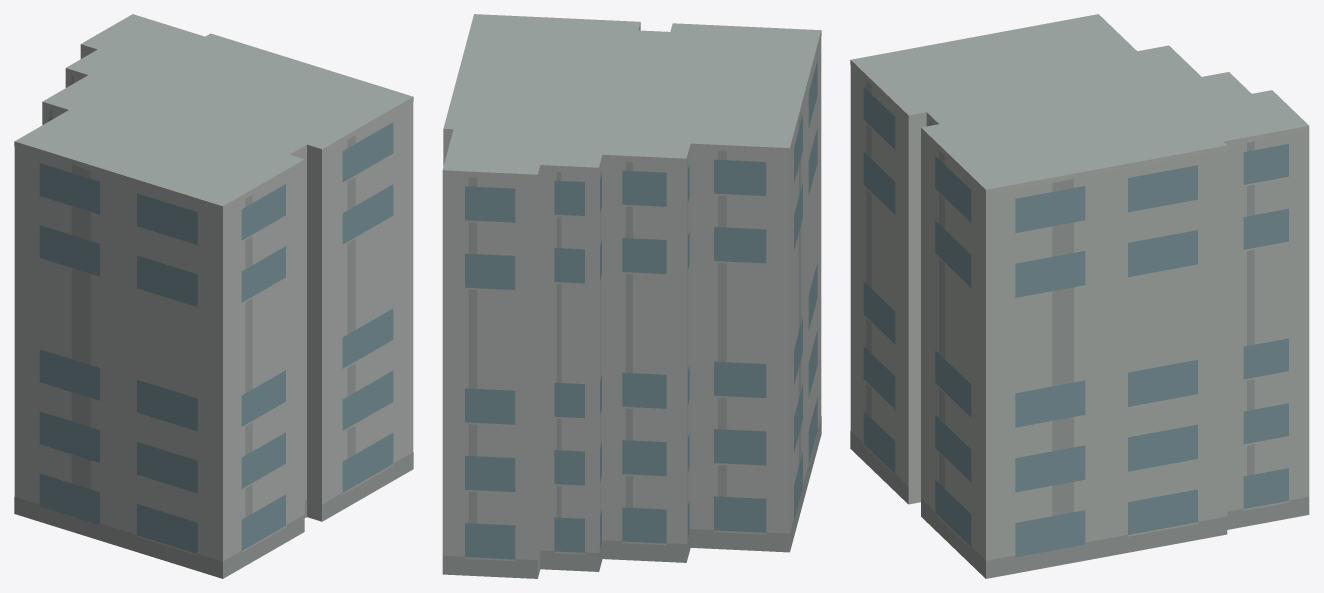
The model's file is survey-upis-32586812.glb.
3 renders of one model, left to right at view 1: azimuth 30°, elevation 25°; view 2: azimuth 150°, elevation 25°; view 3: azimuth 270°, elevation 25°, orthographic. The views are drawn at different scales.
Parts seen in each view (by area): view 1: survey-upis-32586812.tmp; view 2: survey-upis-32586812.tmp; view 3: survey-upis-32586812.tmp.
Part boxes in pixels (x1,y1,x2,y2): survey-upis-32586812.tmp: (14,14,413,578); survey-upis-32586812.tmp: (442,14,821,578); survey-upis-32586812.tmp: (850,14,1309,578).
Bounding box in the file's own units: 16.87 × 17.4 × 18.6.
